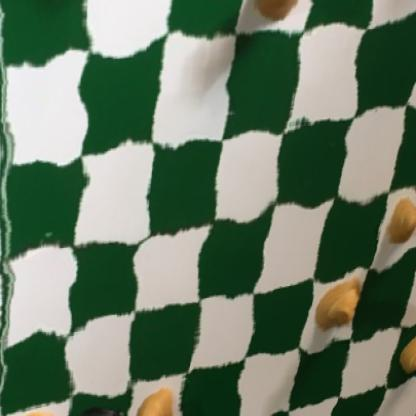black-bishop: (63, 387, 128, 416)
white-king: (307, 271, 371, 345)
white-pawn: (376, 192, 416, 258), (130, 376, 180, 416), (394, 323, 416, 384), (6, 401, 61, 416)
white-rook: (238, 0, 321, 30)
